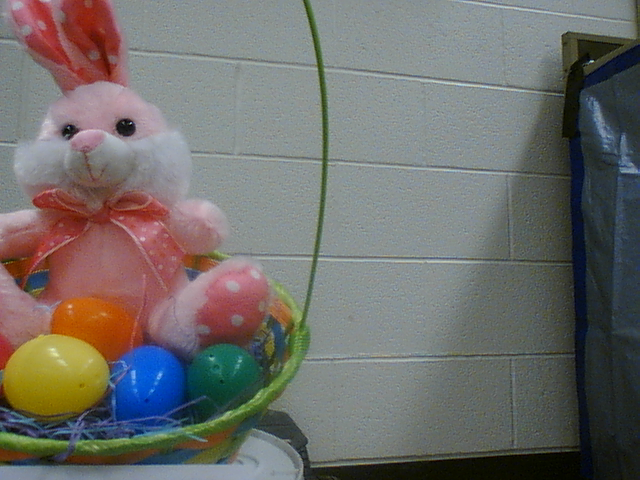bunny: (1, 1, 346, 472)
